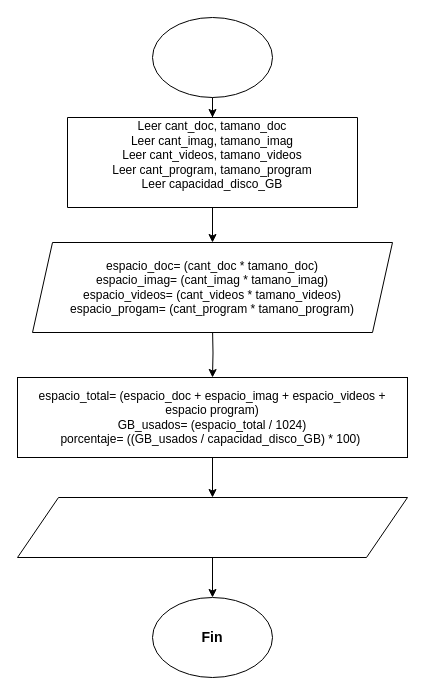
The diagram is 425 pixels wide and 695 high, and some of its shapes have lost their labels. Here are the shapes that lost their labels. From the top down, the centre of each, then its label:
point (212, 57): Inicio
point (212, 527): presentar ("El porcentaje de almacenamiento utilizado es" + porcentaje + "%")
